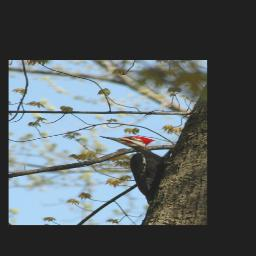Woodpecker: (95, 135, 173, 206)
